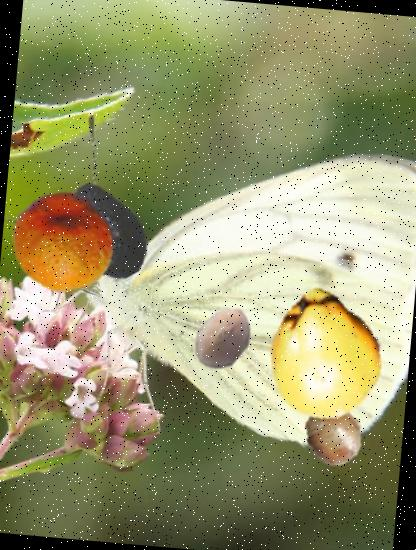Avocado: (51, 176, 162, 286)
Hazelnut: (186, 300, 260, 375)
Mandarine: (7, 186, 119, 298)
Onion: (300, 400, 370, 470)
Quince: (254, 285, 394, 425)
